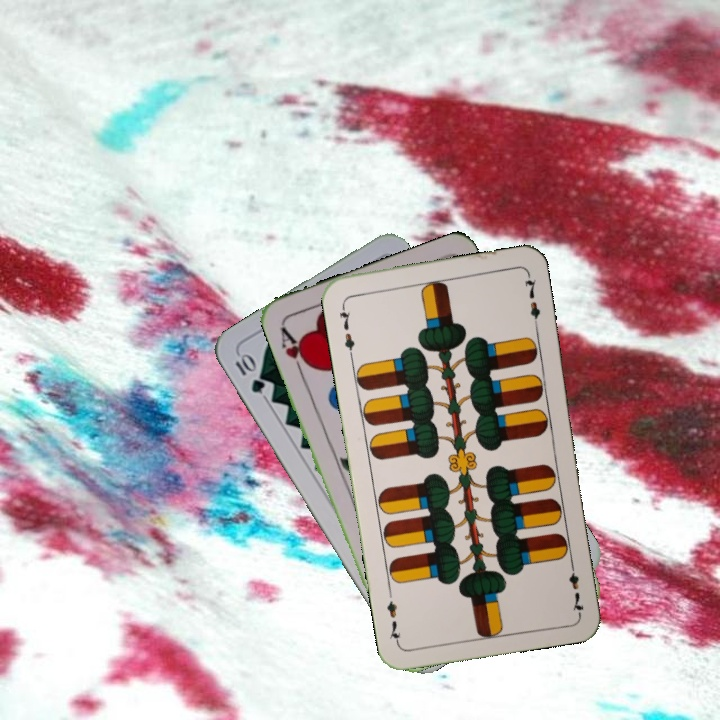E7: (335, 300, 357, 359), (565, 557, 587, 616)
G10: (231, 349, 268, 396)
HA: (276, 322, 314, 378)
